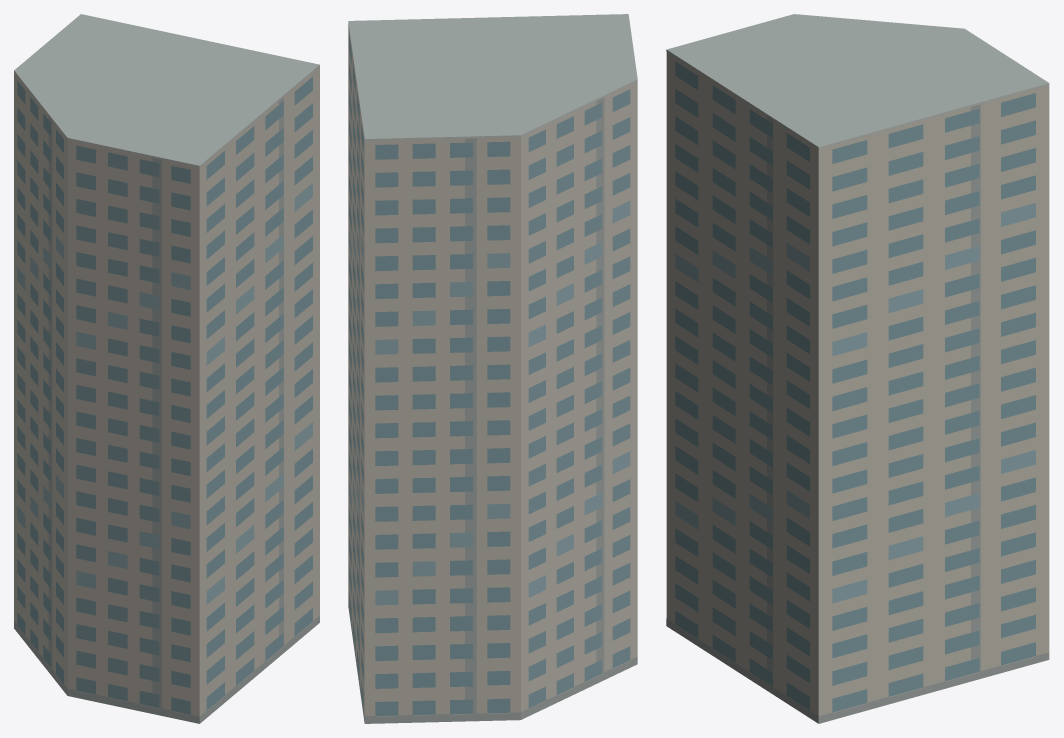
File: residential-98b04f78-c351-49a2-a511-e393690913d6.glb
3 renders of one model, left to right at view 1: azimuth 30°, elevation 25°; view 2: azimuth 150°, elevation 25°; view 3: azimuth 270°, elevation 25°, orthographic. The views are drawn at different scales.
Parts seen in each view (by area): view 1: residential-98b04f78-c351-49a2-a511-e393690913d6.tmp; view 2: residential-98b04f78-c351-49a2-a511-e393690913d6.tmp; view 3: residential-98b04f78-c351-49a2-a511-e393690913d6.tmp.
Boxes of the visible parts, x1,y1,x2,y2 form: residential-98b04f78-c351-49a2-a511-e393690913d6.tmp: (14,14,319,723); residential-98b04f78-c351-49a2-a511-e393690913d6.tmp: (348,14,637,723); residential-98b04f78-c351-49a2-a511-e393690913d6.tmp: (666,14,1049,723).
Bounding box in the file's own units: 32.73 × 66 × 39.73.
